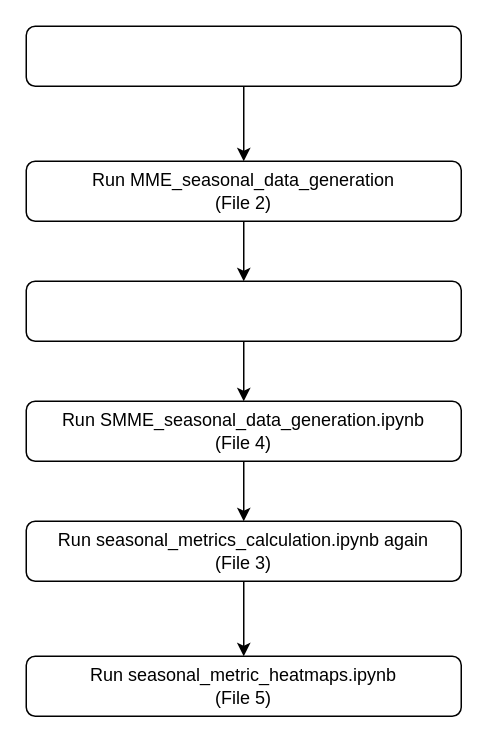
This 488x743 diagram has some shape labels left out. The centre of each missing label's shape, as x and y in pixels:
"Run monthly_to_seasonal_data_generation.ipynb (File 1)" belongs at [243,55].
"Run seasonal_metrics_calculation.ipynb (File 3)" belongs at [243,310].
